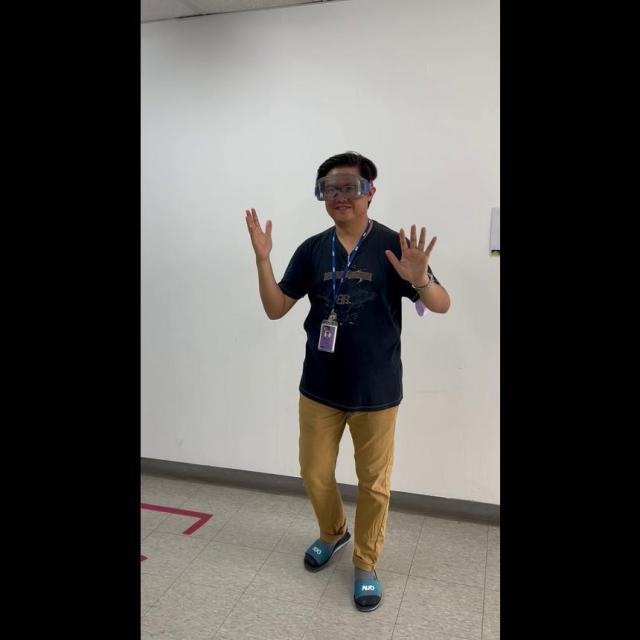bare_hand: (383, 220, 438, 284), (243, 202, 272, 263)
